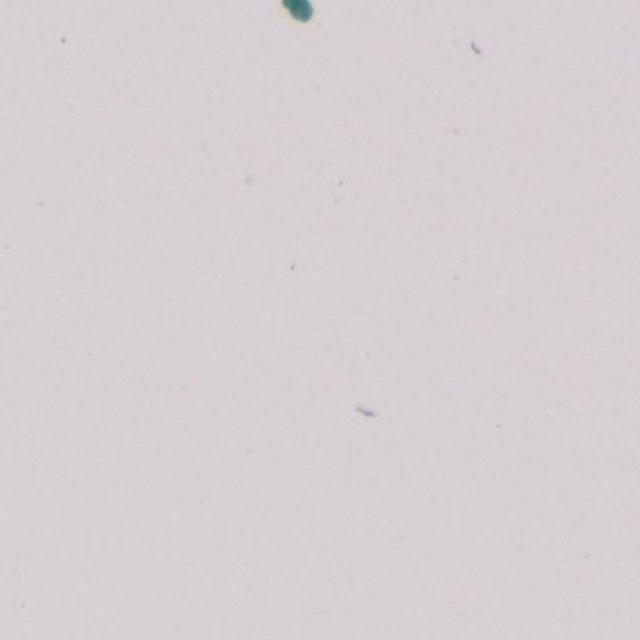non_viable: (282, 0, 312, 21)
